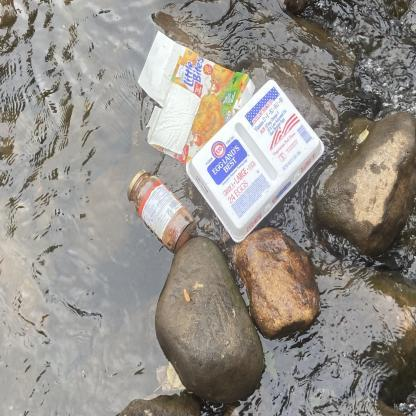trash: (183, 76, 327, 250), (134, 28, 259, 175), (124, 165, 200, 259)
